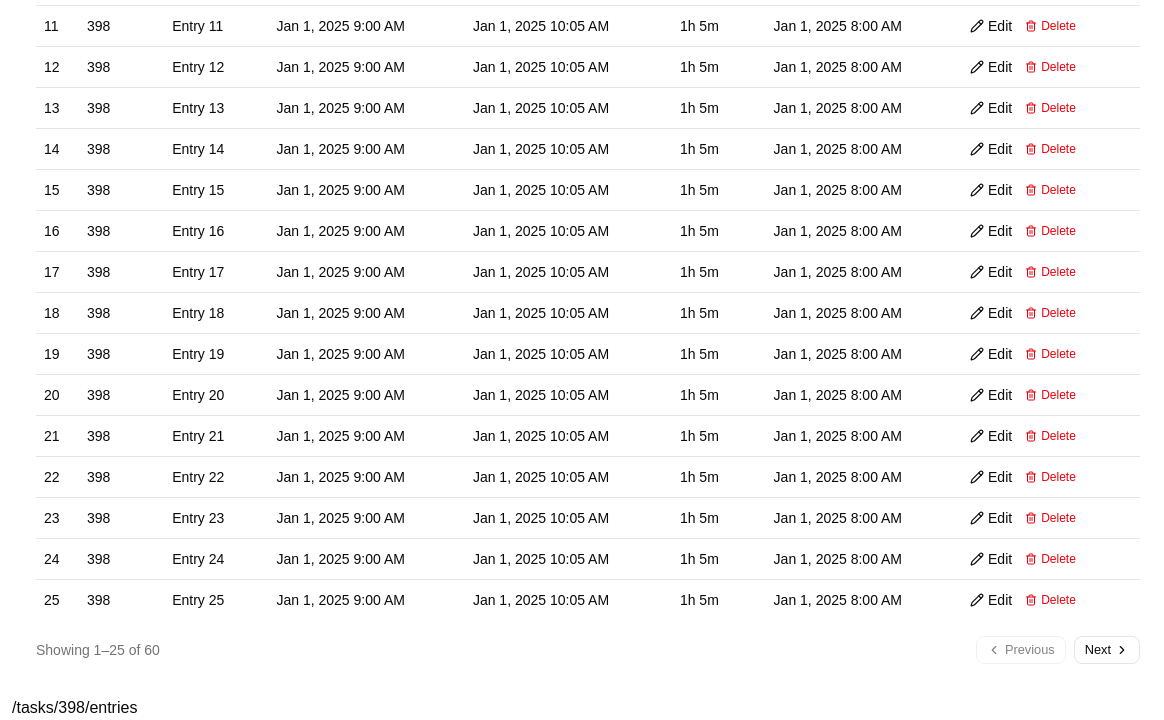
Test: TaskEntriesPage › pages through the URL
(page scrolled)
Expected: the text "Showing 1–25 of 60" is shown, [36, 640, 160, 660]
Expected: the button "Previous" is disabled, [976, 636, 1066, 664]
Click the button "Next" at (1107, 650), box [1074, 636, 1140, 664]
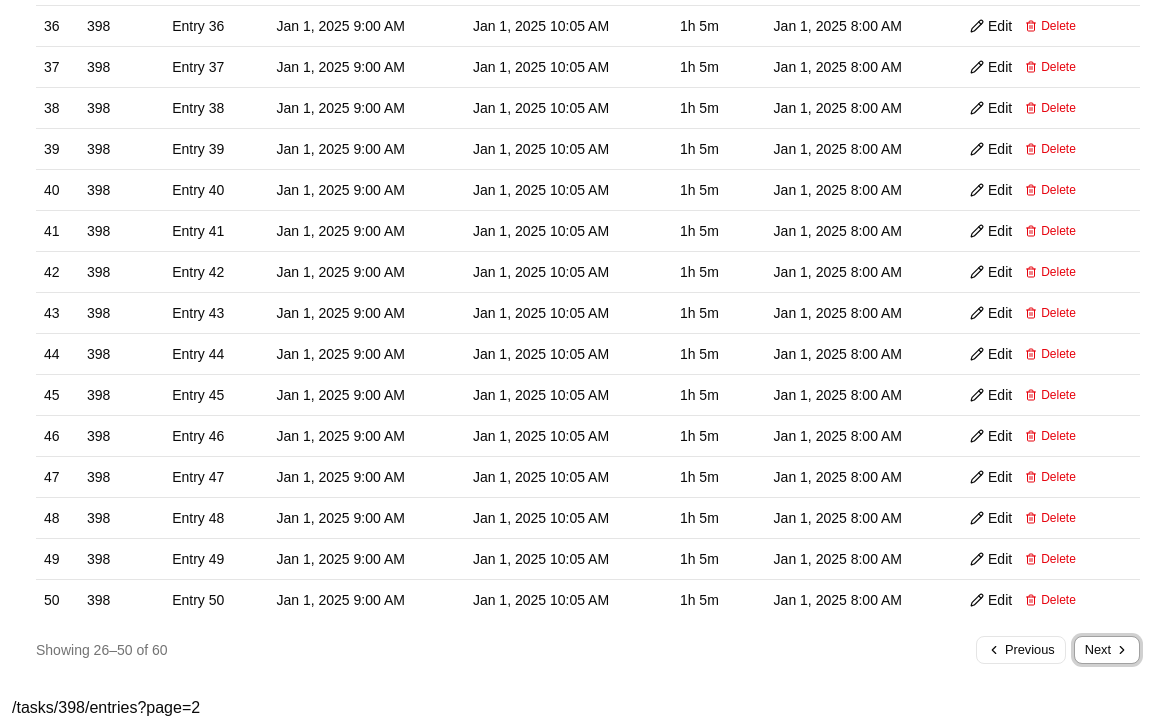
Expected: the text "Showing 26–50 of 60" is shown, [36, 640, 168, 660]
Expected: the text with test id "location" reads "/tasks/398/entries?page=2", [12, 698, 200, 716]
Click the button "Next" at (1107, 650), box [1074, 636, 1140, 664]
(page scrolled)
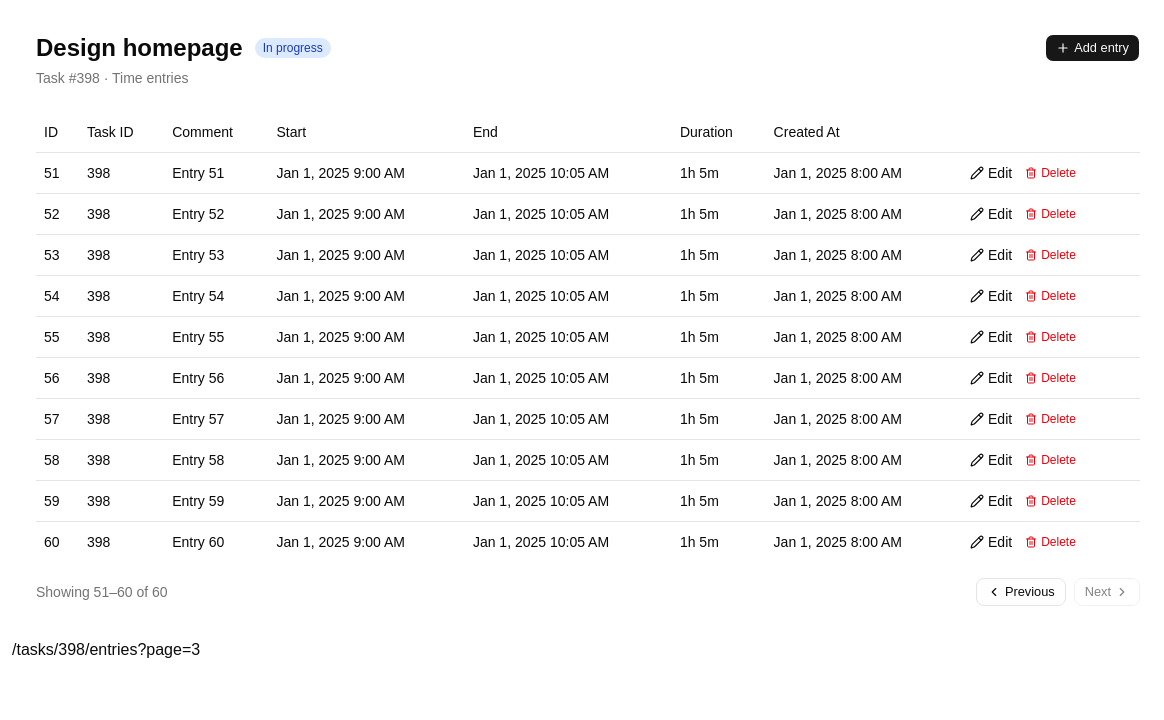
Expected: the text "Showing 51–60 of 60" is shown, [36, 582, 168, 602]
Expected: the button "Next" is disabled, [1074, 578, 1140, 606]
Click the button "Previous" at (1021, 592), box [976, 578, 1066, 606]
(page scrolled)
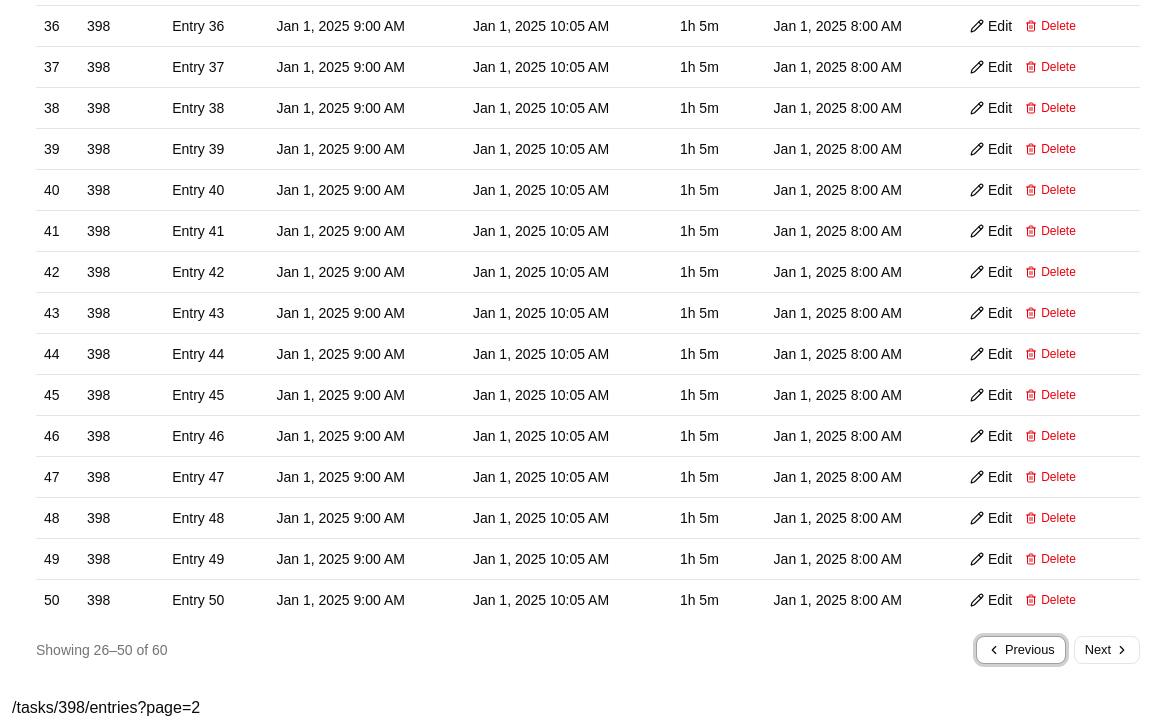
Expected: the text "Showing 26–50 of 60" is shown, [36, 640, 168, 660]
